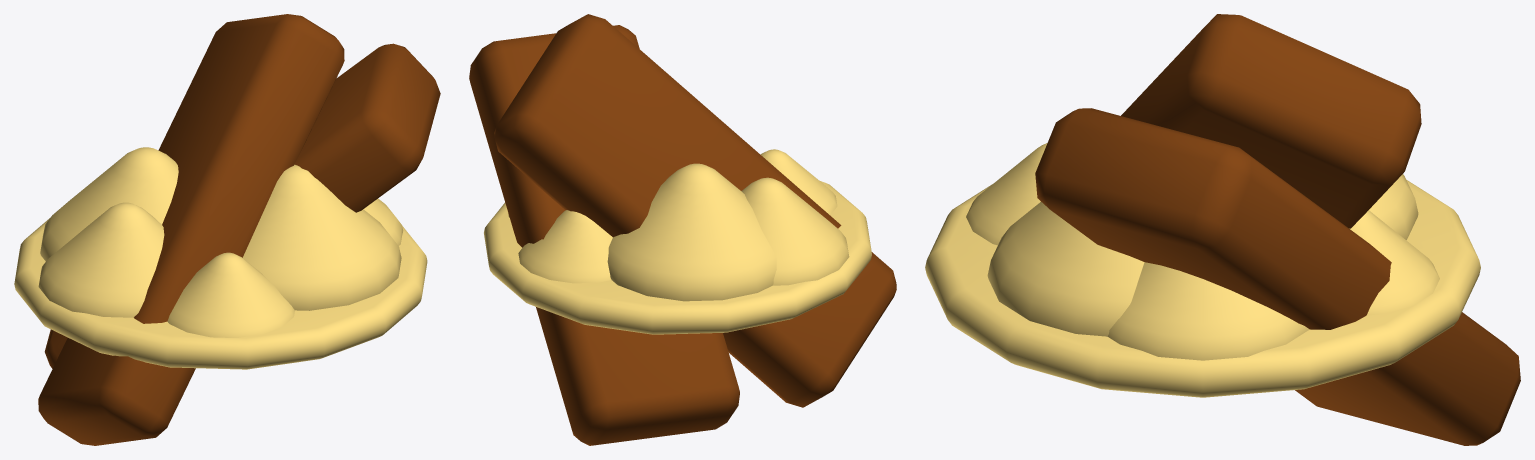
File: LastLuna_Model_Node_Sand_Plank.fbx
3 views of the same model, side by side, from view 1: azimuth 30°, elevation 25°; view 2: azimuth 150°, elevation 25°; view 3: azimuth 270°, elevation 25° (orthographic). The views are drawn at different scales.
Visible parts, largest first — view 1: Plank001, Soil_Floor001, Soil_Pile004, Soil_Pile001, Soil_Pile006, Soil_Pile003, Soil_Pile002; view 2: Plank001, Soil_Pile003, Soil_Floor001, Soil_Pile001, Soil_Pile005, Soil_Pile006; view 3: Plank001, Soil_Floor001, Soil_Pile004, Soil_Pile002, Soil_Pile005, Soil_Pile006, Soil_Pile003.
Part boxes in pixels (<box>): Plank001: <box>38,14,440,445</box>; Soil_Floor001: <box>14,218,427,369</box>; Soil_Pile004: <box>242,164,401,310</box>; Soil_Pile001: <box>38,202,164,317</box>; Soil_Pile006: <box>167,252,294,337</box>; Soil_Pile003: <box>40,147,178,261</box>; Soil_Pile002: <box>363,198,403,245</box>; Plank001: <box>469,14,896,445</box>; Soil_Pile003: <box>607,163,776,301</box>; Soil_Floor001: <box>484,181,871,334</box>; Soil_Pile001: <box>741,177,849,285</box>; Soil_Pile005: <box>518,210,612,283</box>; Soil_Pile006: <box>760,149,837,215</box>; Plank001: <box>1035,14,1520,445</box>; Soil_Floor001: <box>925,180,1480,397</box>; Soil_Pile004: <box>987,202,1144,336</box>; Soil_Pile002: <box>1107,262,1309,360</box>; Soil_Pile005: <box>1349,210,1439,315</box>; Soil_Pile006: <box>966,143,1047,245</box>; Soil_Pile003: <box>1369,174,1418,239</box>.
Bounding box in the file's own units: 41.1 × 36.87 × 40.09.
